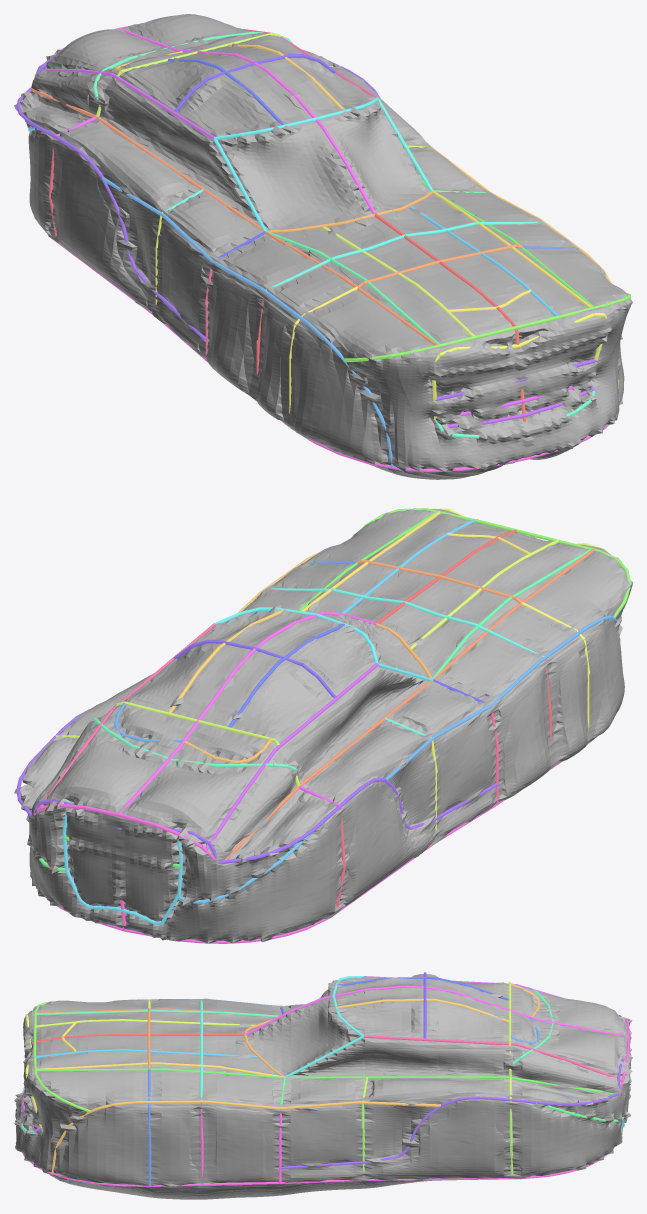
Rendered from t2f_car_97.gltf.
The picture shows the model from 3 angles, top to bottom: view 1: azimuth 30°, elevation 25°; view 2: azimuth 150°, elevation 25°; view 3: azimuth 270°, elevation 25°; orthographic projection. The views are drawn at different scales.
Size of the model in its own units: 0.3913 by 0.294 by 0.9057.
